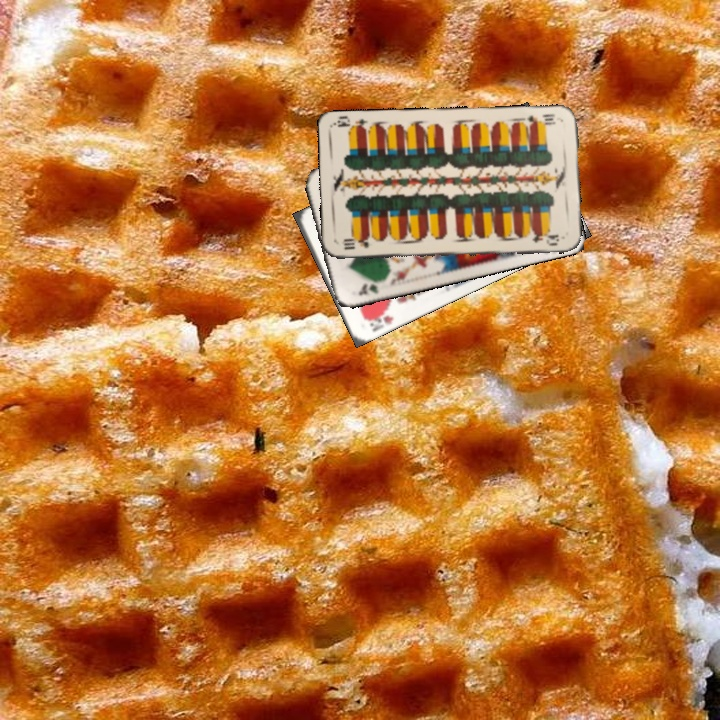E10: (340, 234, 377, 252), (523, 110, 558, 128)
GK: (355, 279, 381, 298)
HK: (361, 305, 396, 334)
